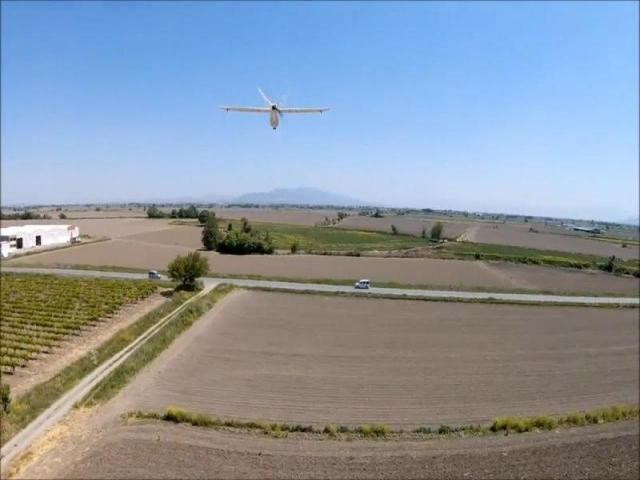hedef: (214, 84, 331, 138)
